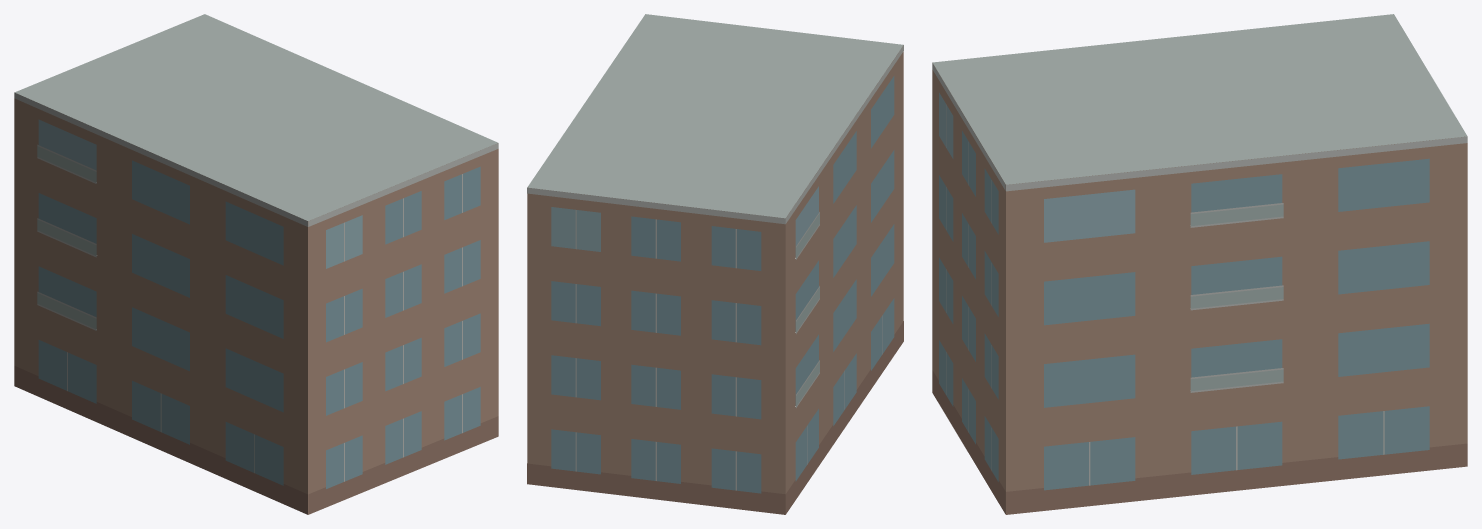
The model's file is survey-upis-32944461.glb.
3 renders of one model, left to right at view 1: azimuth 30°, elevation 25°; view 2: azimuth 150°, elevation 25°; view 3: azimuth 270°, elevation 25°, orthographic. The views are drawn at different scales.
Visible parts, largest first — view 1: survey-upis-32944461.tmp; view 2: survey-upis-32944461.tmp; view 3: survey-upis-32944461.tmp.
Boxes of the visible parts, bbox=[...] form: survey-upis-32944461.tmp: bbox=[14, 14, 498, 514]; survey-upis-32944461.tmp: bbox=[527, 14, 903, 514]; survey-upis-32944461.tmp: bbox=[932, 14, 1467, 514].
Bounding box in the file's own units: 13.55 × 12.2 × 17.94.
